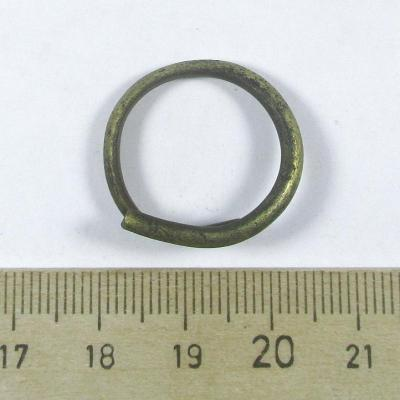archeology: (101, 60, 305, 250)
